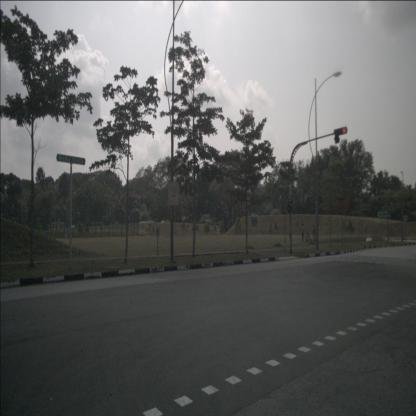human-pedestrian-adult: (312, 224, 316, 242), (301, 223, 304, 243)
